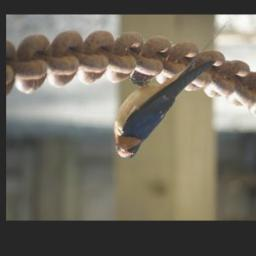Swallow: (112, 20, 230, 159)
